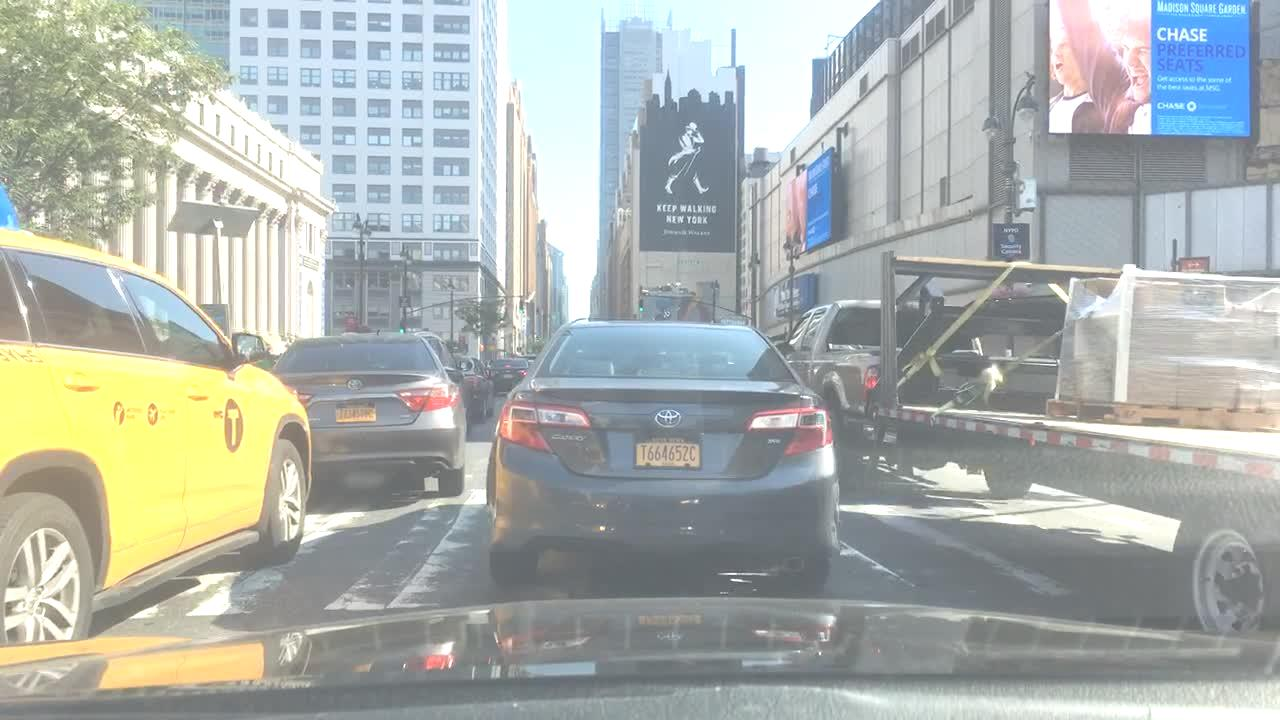Toyota: (644, 403, 690, 434), (344, 376, 364, 393)
